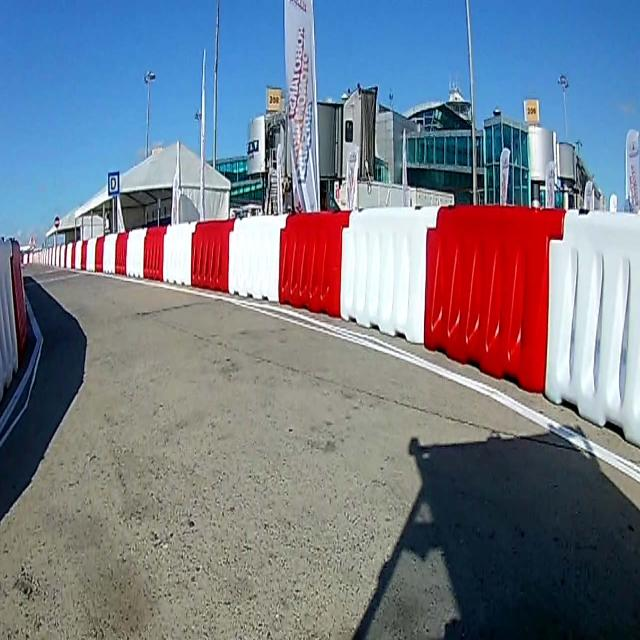durak: (107, 170, 119, 194)
